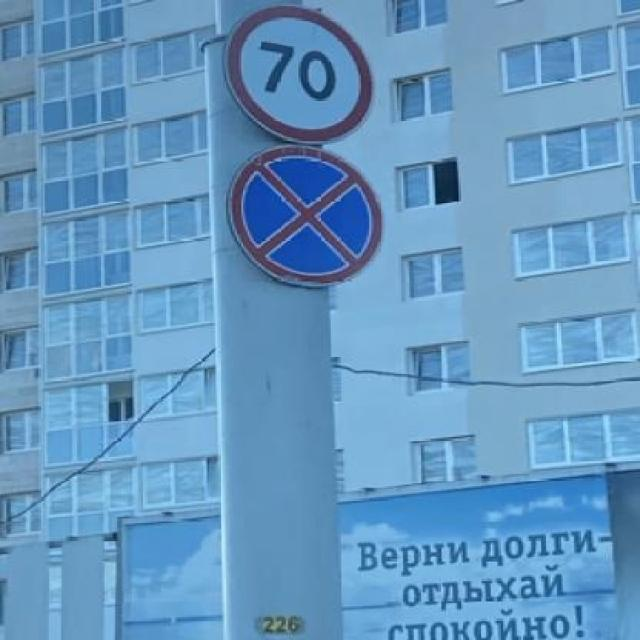forb_speed_over_70: (232, 2, 378, 145)
